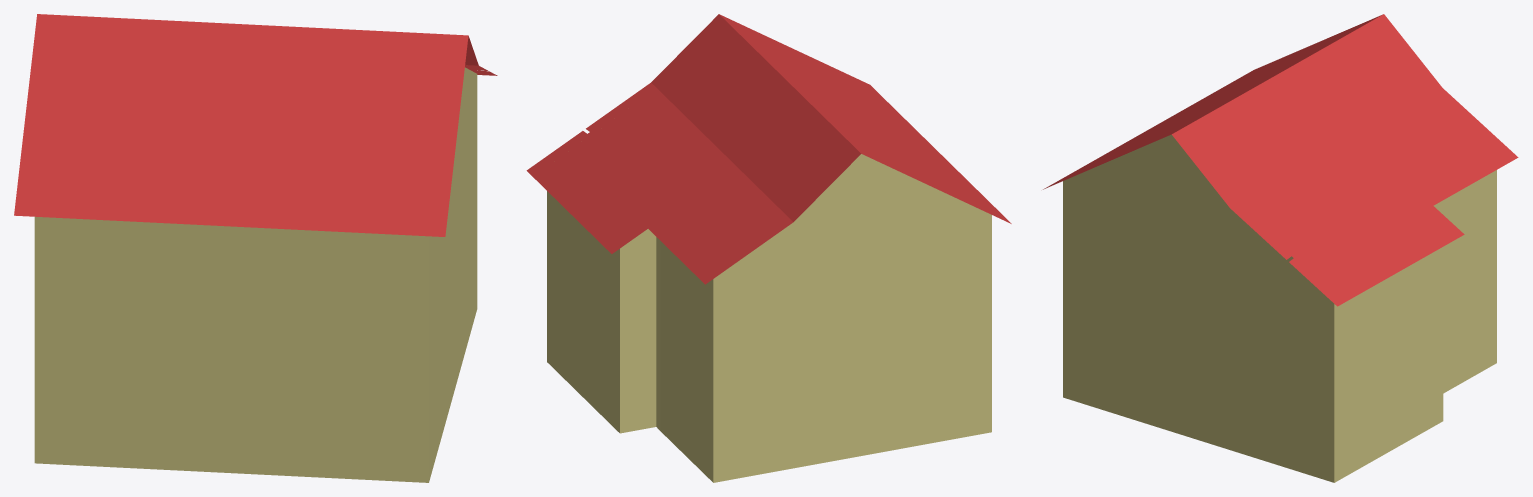
The picture shows the model from 3 angles, left to right: view 1: azimuth 30°, elevation 25°; view 2: azimuth 150°, elevation 25°; view 3: azimuth 270°, elevation 25°; orthographic projection. The views are drawn at different scales.
Bounding box in the file's own units: 16.47 × 15.54 × 10.98.
